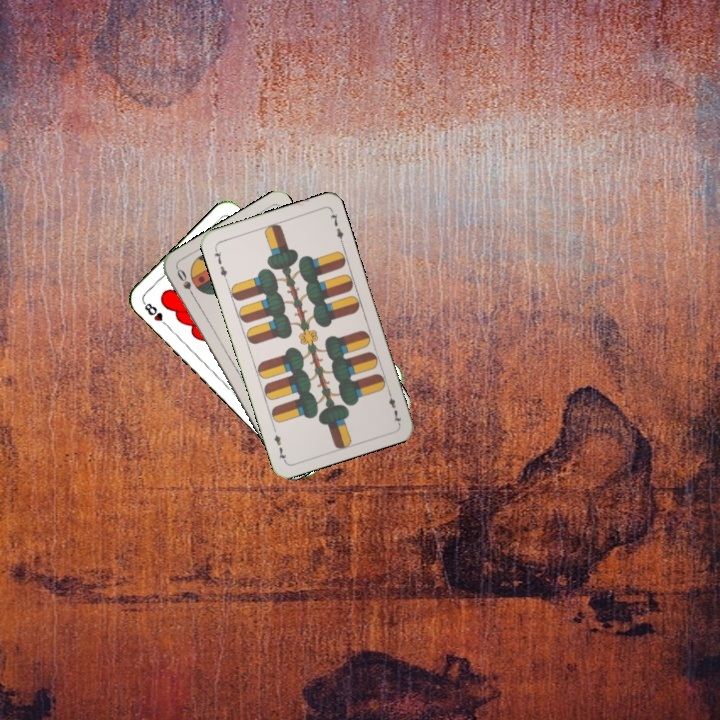E7: (384, 386, 404, 426), (210, 244, 230, 283)
H8: (139, 298, 172, 330)
SO: (173, 265, 199, 302)
